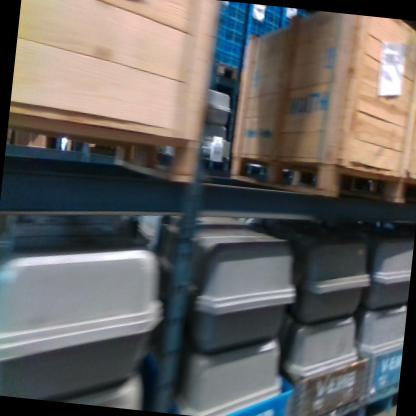pallet: (3, 100, 202, 184), (297, 391, 366, 416), (361, 378, 399, 416), (211, 56, 241, 80)
small_load_carrier: (224, 18, 246, 39), (244, 13, 265, 31)
